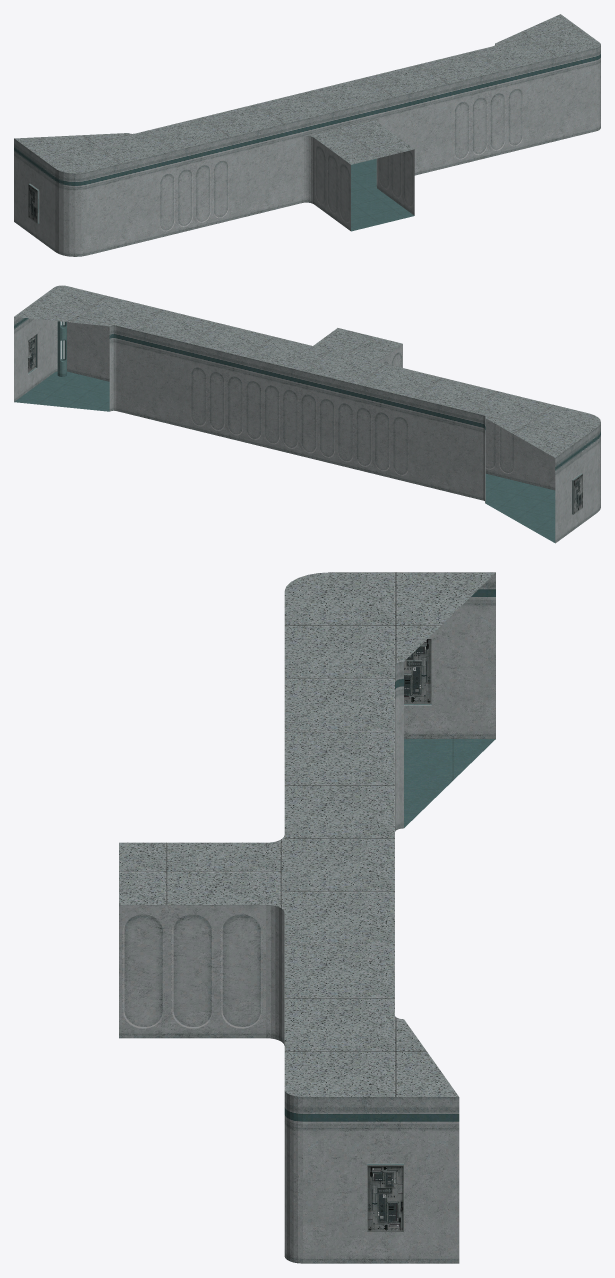
Rendered from mun_all_hospital_s01_r7_entryd_mesh_r7.fbx.
3 renders of one model, top to bottom at view 1: azimuth 30°, elevation 25°; view 2: azimuth 150°, elevation 25°; view 3: azimuth 270°, elevation 25°, orthographic. The views are drawn at different scales.
Visible parts, largest first — view 1: mesh_node; view 2: mesh_node; view 3: mesh_node.
Part boxes in pixels (x1,y1,x2,y2): mesh_node: (14,14,600,256); mesh_node: (14,285,600,543); mesh_node: (119,572,495,1263).
Size of the model in its own units: 33.96 by 5 by 10.25.
